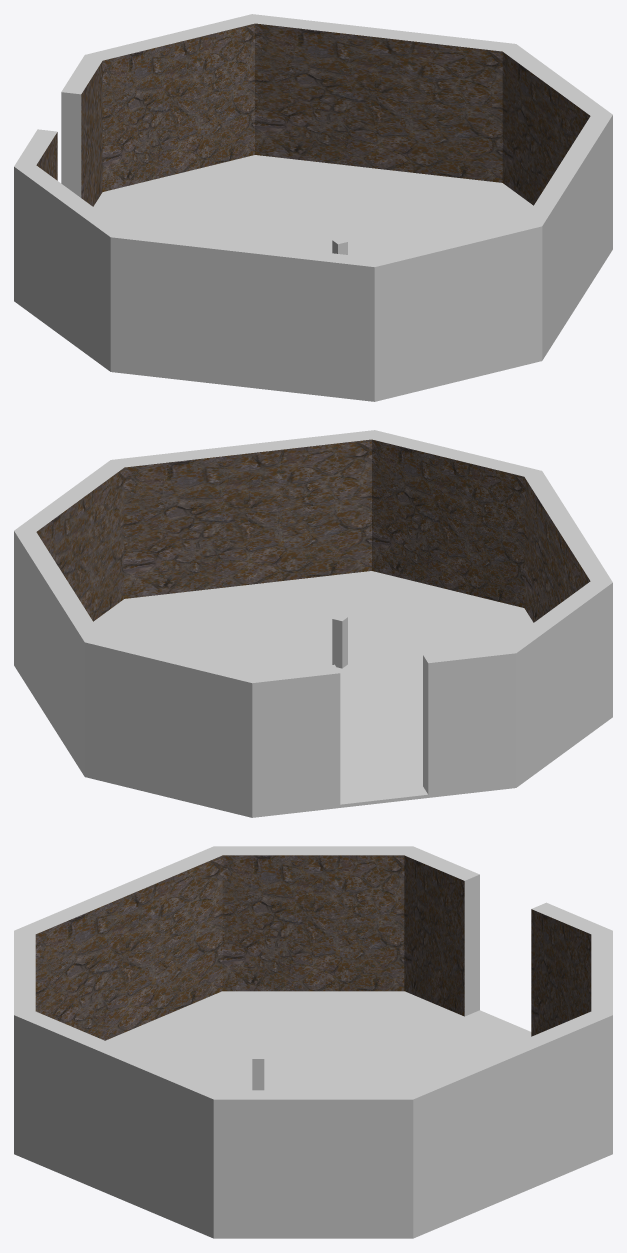
The model's file is IntroRoom3.fbx.
3 views of the same model, one above another, from view 1: azimuth 30°, elevation 25°; view 2: azimuth 150°, elevation 25°; view 3: azimuth 270°, elevation 25° (orthographic). The views are drawn at different scales.
Parts seen in each view (by area): view 1: Floor, Wall; view 2: Floor, Wall, NPC; view 3: Floor, Wall.
Part boxes in pixels (bbox=[...]): Floor: bbox=[14, 14, 612, 401]; Wall: bbox=[36, 23, 590, 206]; Floor: bbox=[14, 430, 612, 817]; Wall: bbox=[36, 439, 590, 622]; NPC: bbox=[332, 614, 347, 668]; Floor: bbox=[14, 846, 612, 1238]; Wall: bbox=[35, 855, 591, 1040].
Size of the model in its own units: 2000 by 513 by 2000.
